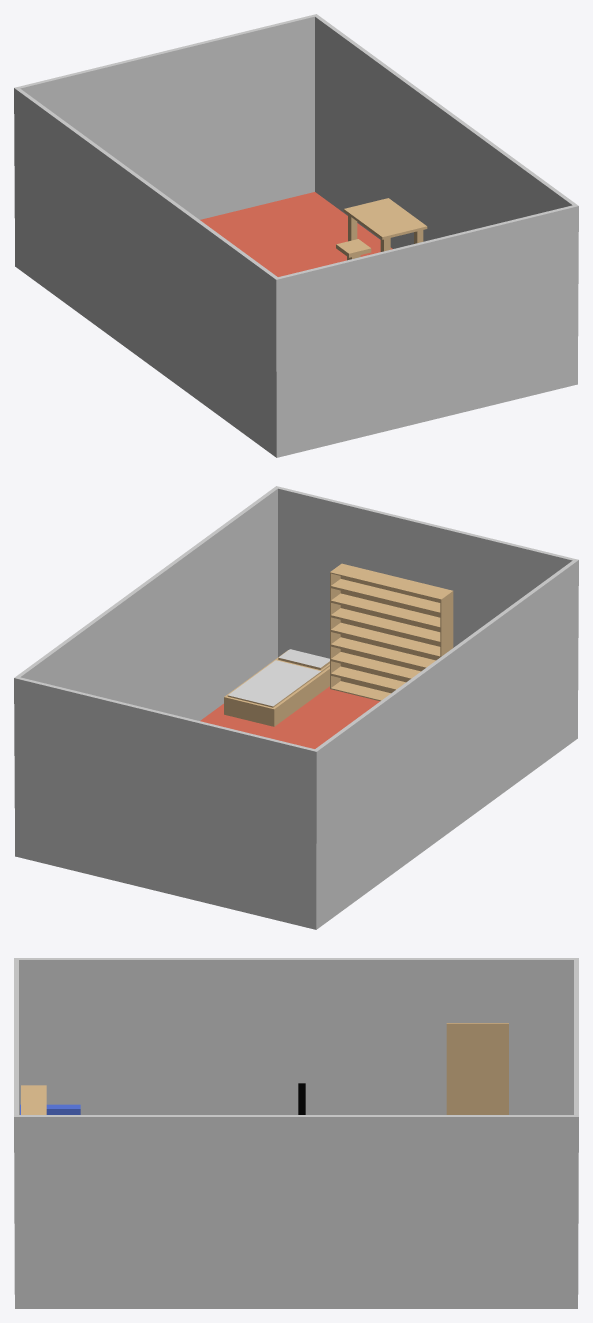
File: room.glb
The picture shows the model from 3 angles, top to bottom: view 1: azimuth 30°, elevation 25°; view 2: azimuth 150°, elevation 25°; view 3: azimuth 270°, elevation 25°; orthographic projection. The views are drawn at different scales.
Parts seen in each view (by area): view 1: Room, Cube; view 2: Room, Shelf, Bed; view 3: Room, Door, Shelf.
Boxes of the visible parts, x1,y1,x2,y2 form: Room: [14, 14, 578, 457]; Cube: [343, 198, 427, 251]; Room: [14, 486, 578, 929]; Shelf: [330, 563, 453, 701]; Bed: [224, 649, 329, 726]; Room: [14, 958, 578, 1308]; Door: [446, 1023, 508, 1114]; Shelf: [21, 1085, 46, 1114].
Bounding box in the file's own units: 5.42 × 3.06 × 8.14.
